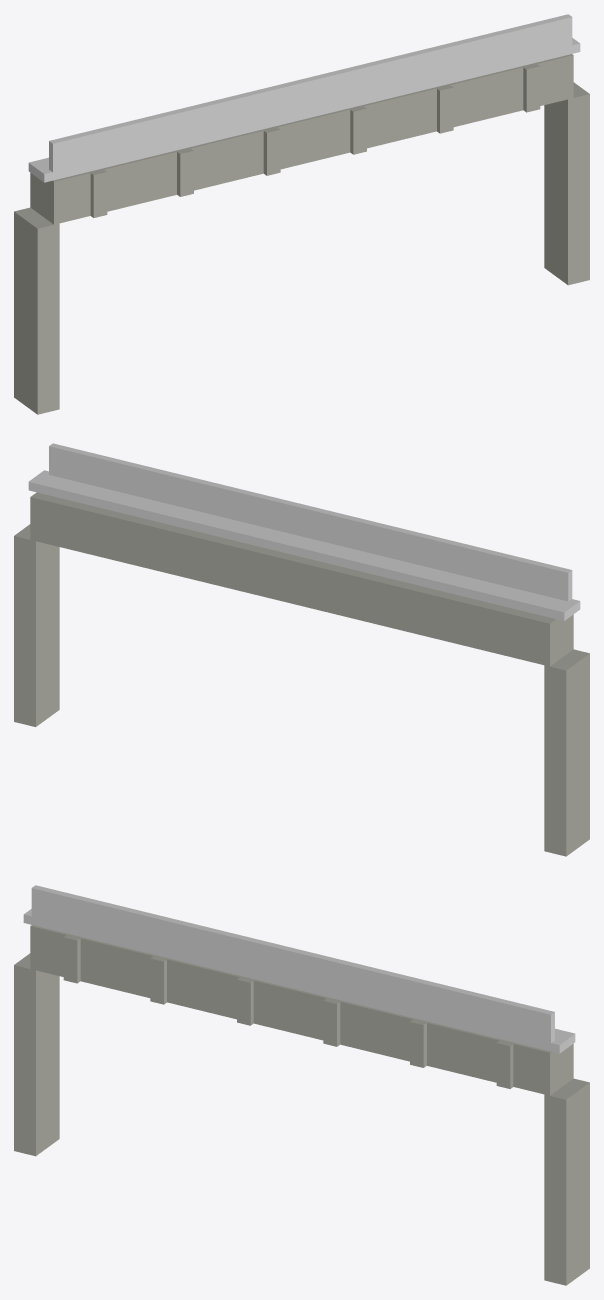
The model's file is SM_MuroTrinchera_Boca_v1_Pilotes_LOD0.fbx.
The picture shows the model from 3 angles, top to bottom: view 1: azimuth 30°, elevation 25°; view 2: azimuth 150°, elevation 25°; view 3: azimuth 330°, elevation 25°; orthographic projection.
Visible parts, largest first — view 1: SM_muro_trinchera_v6_LOD0; view 2: SM_muro_trinchera_v6_LOD0; view 3: SM_muro_trinchera_v6_LOD0.
Boxes of the visible parts, box(x1,y1,x2,y2) form: SM_muro_trinchera_v6_LOD0: box(14, 14, 589, 414); SM_muro_trinchera_v6_LOD0: box(14, 443, 589, 856); SM_muro_trinchera_v6_LOD0: box(14, 885, 589, 1285).
Bounding box in the file's own units: 20.2 × 9.3 × 1.7.
